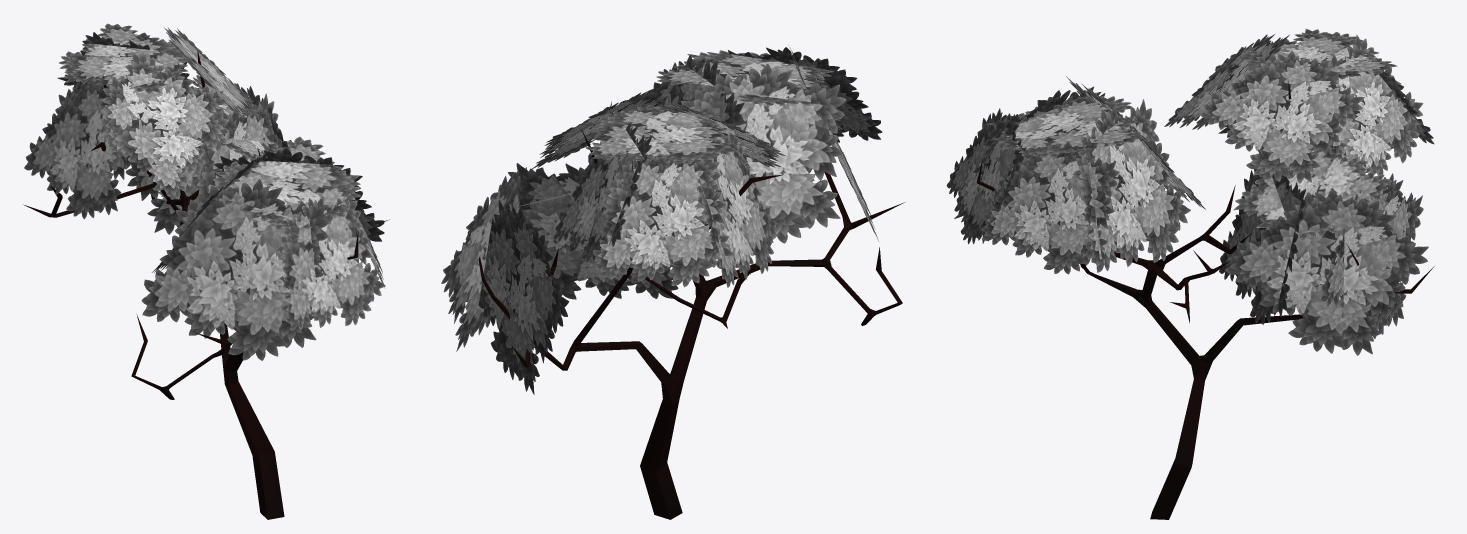
Rendered from TreeOptimizedNew_3.fbx.
3 renders of one model, left to right at view 1: azimuth 30°, elevation 25°; view 2: azimuth 150°, elevation 25°; view 3: azimuth 270°, elevation 25°, orthographic. The views are drawn at different scales.
Parts seen in each view (by area): view 1: Cube.004; view 2: Cube.004; view 3: Cube.004.
Part boxes in pixels (x1=…): Cube.004: x1=23, y1=23, x2=389, y2=519; Cube.004: x1=441, y1=47, x2=904, y2=519; Cube.004: x1=946, y1=28, x2=1434, y2=519.
Size of the model in its own units: 318 by 449 by 452.
